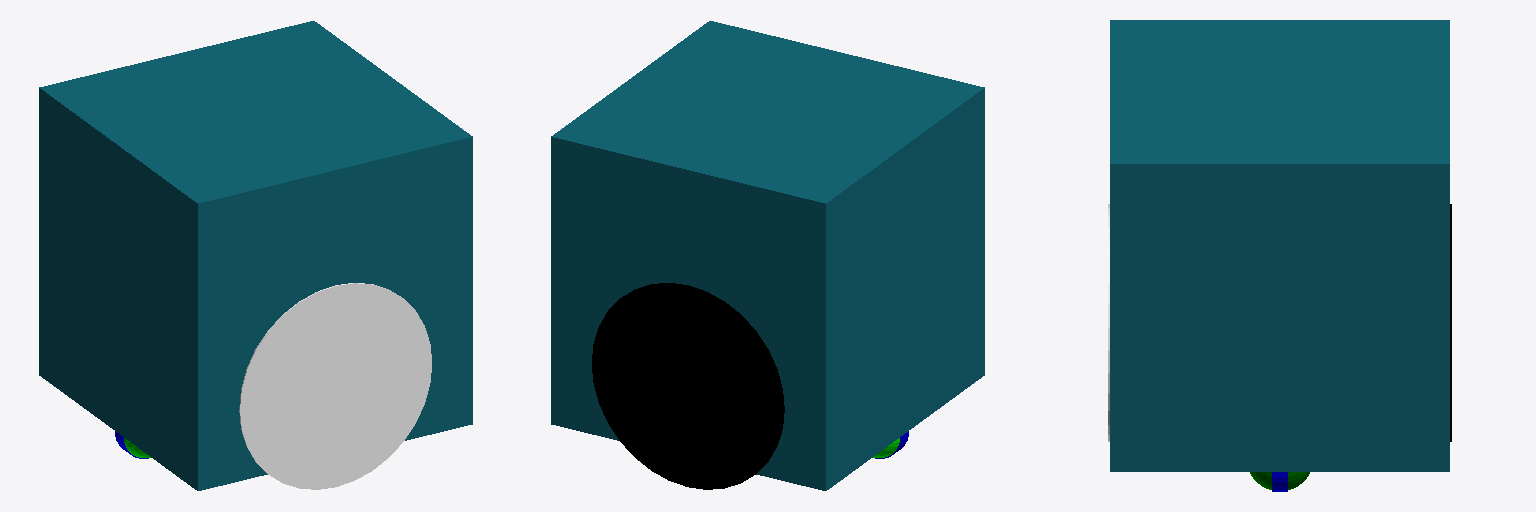
URDF robot description (box_bot):
<?xml version="1.0"?>
<robot name="box_bot">

  <material name="red">
      <color rgba="1.0 0.0 0.0 1"/>
  </material>

  <material name="green_light">
      <color rgba="0.0 1.0 0.0 1"/>
  </material>

  <material name="green_dark">
    <color rgba="0.0 0.5 0.0 1"/>
  </material>

  <material name="blue">
      <color rgba="0.0 0.0 1.0 1"/>
  </material>

  <material name="black">
      <color rgba="0.0 0.0 0.0 1"/>
  </material>

  <material name="white">   
      <color rgba="1.0 1.0 1.0 1"/>
  </material>

  <material name="box_bot_blue">
      <color rgba="0.088656 0.428691 0.491021 1"/>
  </material>

  <link name="base_link">
  </link>


  <!-- Body -->
  <link name="chassis">
    <visual>
      <geometry>
        <box size="0.1 0.1 0.1"/>
      </geometry>
      <material name="box_bot_blue"/>
    </visual>
  </link>

  <joint name="base_link_joint" type="fixed">
    <origin rpy="0 0 0" xyz="0 0 0" />
    <parent link="base_link" />
    <child link="chassis" />
  </joint>

  <!-- Wheel Left -->
  <link name="left_wheel">      
      <visual>
        <origin rpy="0 1.5707 1.5707" xyz="0 0 0"/>
        <geometry>
          <cylinder length="0.001" radius="0.035"/>
        </geometry>
        <material name="black"/>
      </visual>
  </link>

  <joint name="joint_left_wheel" type="continuous">
    <origin rpy="0 0 0" xyz="0 0.05 -0.025"/>
    <child link="left_wheel"/>
    <parent link="chassis"/>
    <axis rpy="0 0 0" xyz="0 1 0"/>
    <limit effort="10000" velocity="1000"/>
    <joint_properties damping="1.0" friction="1.0"/>
  </joint>

  <!-- Wheel Right -->
  <link name="right_wheel">      
      <visual>
        <origin rpy="0 1.5707 1.5707" xyz="0 0 0"/>
        <geometry>
          <cylinder length="0.001" radius="0.035"/>
        </geometry>
        <material name="white"/>
      </visual>
  </link>

  <joint name="joint_right_wheel" type="continuous">  
    <origin rpy="0 0 0" xyz="0 -0.05 -0.025"/>
    <child link="right_wheel"/>
    <parent link="chassis"/>
    <axis rpy="0 0 0" xyz="0 1 0"/>
    <limit effort="10000" velocity="1000"/>
    <joint_properties damping="1.0" friction="1.0"/>
  </joint>


  <!-- Caster Wheel Front -->
  <link name="front_yaw_link">
    <visual>
        <origin rpy="0 1.5707 1.5707" xyz="0 0 0"/>
        <geometry>
          <cylinder length="0.005" radius="0.010"/>
        </geometry>
        <material name="blue"/>
      </visual>
  </link>

  <joint name="front_yaw_joint" type="continuous">
    <origin rpy="0 0 0" xyz="0.04 0 -0.05" />
    <parent link="chassis" />
    <child link="front_yaw_link" />
    <axis xyz="0 0 1" />
    <limit effort="1000.0" velocity="100.0" />
    <dynamics damping="0.0" friction="0.1"/>
  </joint>



  <link name="front_roll_link">
      <visual>
        <origin rpy="0 1.5707 1.5707" xyz="0 0 0"/>
        <geometry>
          <cylinder length="0.005" radius="0.010"/>
        </geometry>
        <material name="red"/>
      </visual>
  </link>

  <joint name="front_roll_joint" type="continuous">
    <origin rpy="0 0 0" xyz="0 0 0" />
    <parent link="front_yaw_link" />
    <child link="front_roll_link" />
    <axis xyz="1 0 0" />
    <limit effort="1000.0" velocity="100.0" />
    <dynamics damping="0.0" friction="0.1"/>
  </joint>



  <link name="front_pitch_link">
    <visual>
      <origin rpy="0 1.5707 1.5707" xyz="0 0 0"/>
      <geometry>
        <sphere radius="0.010"/>
      </geometry>
      <material name="green_dark"/>
    </visual>
  </link>

  <joint name="front_pitch_joint" type="continuous">
    <origin rpy="0 0 0" xyz="0 0 0" />
    <parent link="front_roll_link" />
    <child link="front_pitch_link" />
    <axis xyz="0 1 0" />
    <limit effort="1000.0" velocity="100.0" />
    <dynamics damping="0.0" friction="0.1"/>
  </joint>

<!-- Caster Wheel Back -->
  <link name="back_yaw_link">
    <visual>
        <origin rpy="0 1.5707 1.5707" xyz="0 0 0"/>
        <geometry>
          <cylinder length="0.005" radius="0.010"/>
        </geometry>
        <material name="blue"/>
      </visual>
  </link>

  <joint name="back_yaw_joint" type="continuous">
    <origin rpy="0 0 0" xyz="-0.04 0 -0.05" />
    <parent link="chassis" />
    <child link="back_yaw_link" />
    <axis xyz="0 0 1" />
    <limit effort="1000.0" velocity="100.0" />
    <dynamics damping="0.0" friction="0.1"/>
  </joint>



  <link name="back_roll_link">
      <visual>
        <origin rpy="0 1.5707 1.5707" xyz="0 0 0"/>
        <geometry>
          <cylinder length="0.005" radius="0.010"/>
        </geometry>
        <material name="red"/>
      </visual>
  </link>

  <joint name="back_roll_joint" type="continuous">
    <origin rpy="0 0 0" xyz="0 0 0" />
    <parent link="back_yaw_link" />
    <child link="back_roll_link" />
    <axis xyz="1 0 0" />
    <limit effort="1000.0" velocity="100.0" />
    <dynamics damping="0.0" friction="0.1"/>
  </joint>



  <link name="back_pitch_link">
    <visual>
      <origin rpy="0 1.5707 1.5707" xyz="0 0 0"/>
      <geometry>
        <sphere radius="0.010"/>
      </geometry>
      <material name="green_light"/>
    </visual>
  </link>

  <joint name="back_pitch_joint" type="continuous">
    <origin rpy="0 0 0" xyz="0 0 0" />
    <parent link="back_roll_link" />
    <child link="back_pitch_link" />
    <axis xyz="0 1 0" />
    <limit effort="1000.0" velocity="100.0" />
    <dynamics damping="0.0" friction="0.1"/>
  </joint>



</robot>

--- Render facts (derived) ---
The picture shows the robot from 3 angles, left to right: view 1: azimuth 30°, elevation 25°; view 2: azimuth 150°, elevation 25°; view 3: azimuth 270°, elevation 25°; orthographic projection.
Model box_bot with 10 links and 9 joints (8 continuous, 1 fixed), rooted at base_link, posed every joint at zero.
Visible links, largest first — view 1: chassis, right_wheel; view 2: chassis, left_wheel; view 3: chassis, front_pitch_link.
Link boxes in pixels (x1,y1,x2,y2): chassis: [39, 21, 472, 490]; right_wheel: [239, 283, 431, 489]; chassis: [551, 21, 984, 490]; left_wheel: [592, 283, 784, 489]; chassis: [1110, 20, 1449, 471]; front_pitch_link: [1250, 472, 1309, 489].
Size in the robot's own frame: 0.1 by 0.101 by 0.11 metres.
Geometry: primitives only (box / cylinder / sphere), no mesh files.